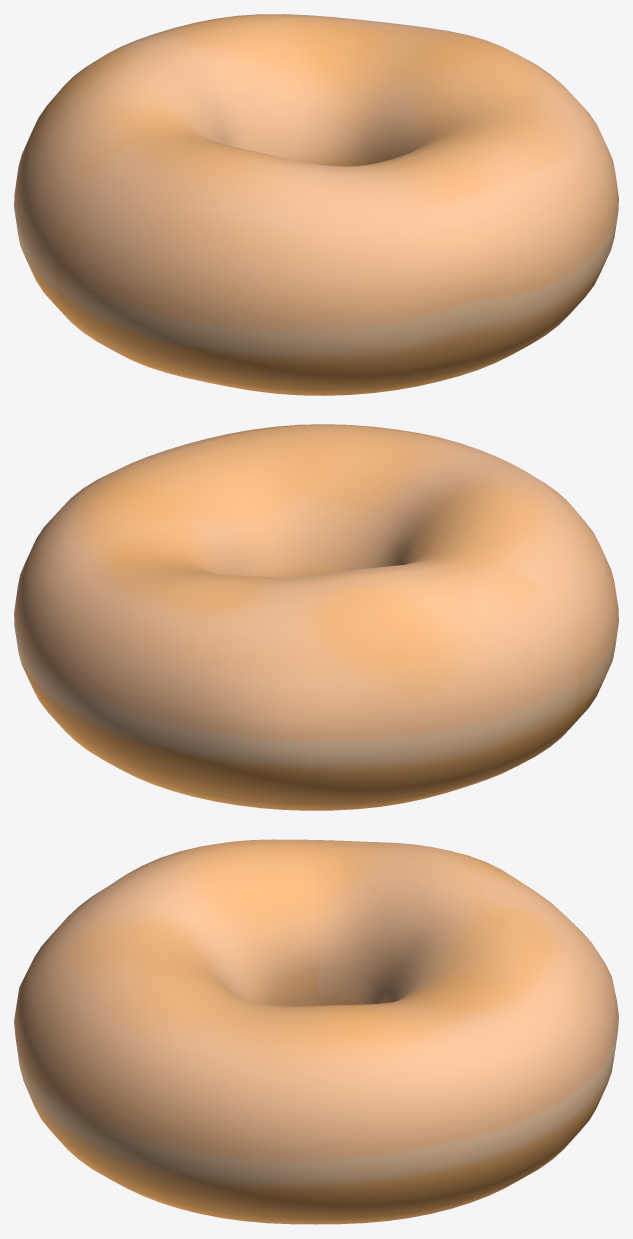
Rendered from Glazed.fbx.
3 renders of one model, top to bottom at view 1: azimuth 30°, elevation 25°; view 2: azimuth 150°, elevation 25°; view 3: azimuth 270°, elevation 25°, orthographic.
Parts seen in each view (by area): view 1: Donut; view 2: Donut; view 3: Donut.
Boxes of the visible parts, left/top/right/bottom form: Donut: left=14, top=14, right=618, bottom=395; Donut: left=14, top=424, right=618, bottom=810; Donut: left=14, top=839, right=618, bottom=1224.
Size of the model in its own units: 38.09 by 15.31 by 38.2.
1 material, 1 textured.
